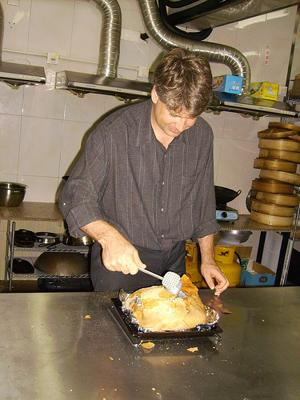person: (59, 46, 230, 297)
